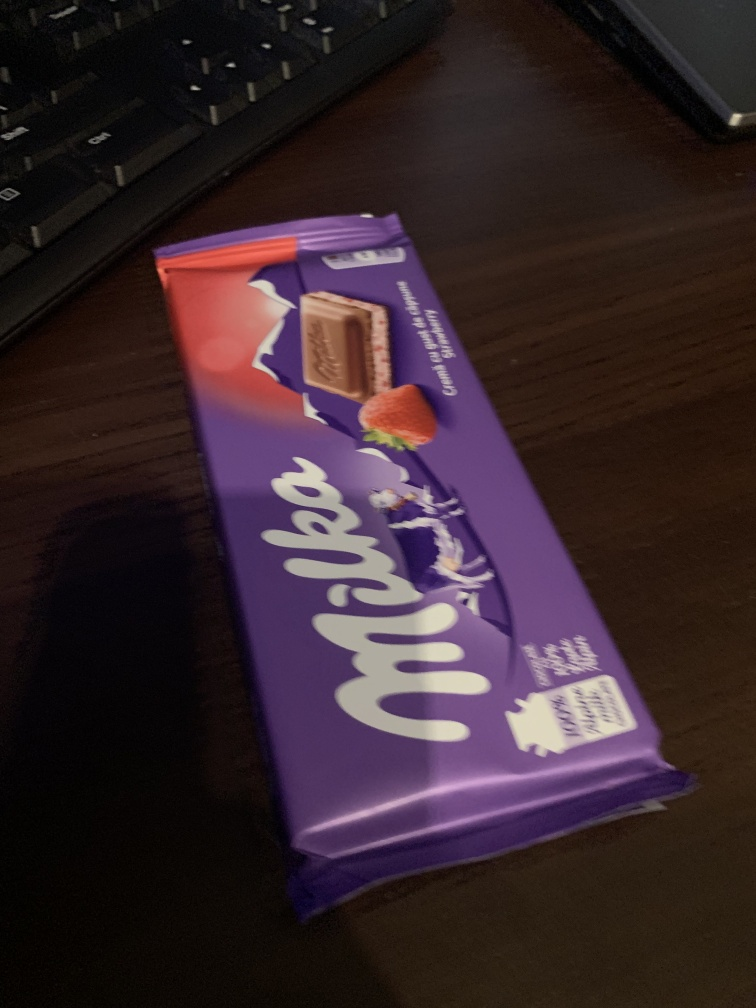milka: (124, 205, 715, 907)
